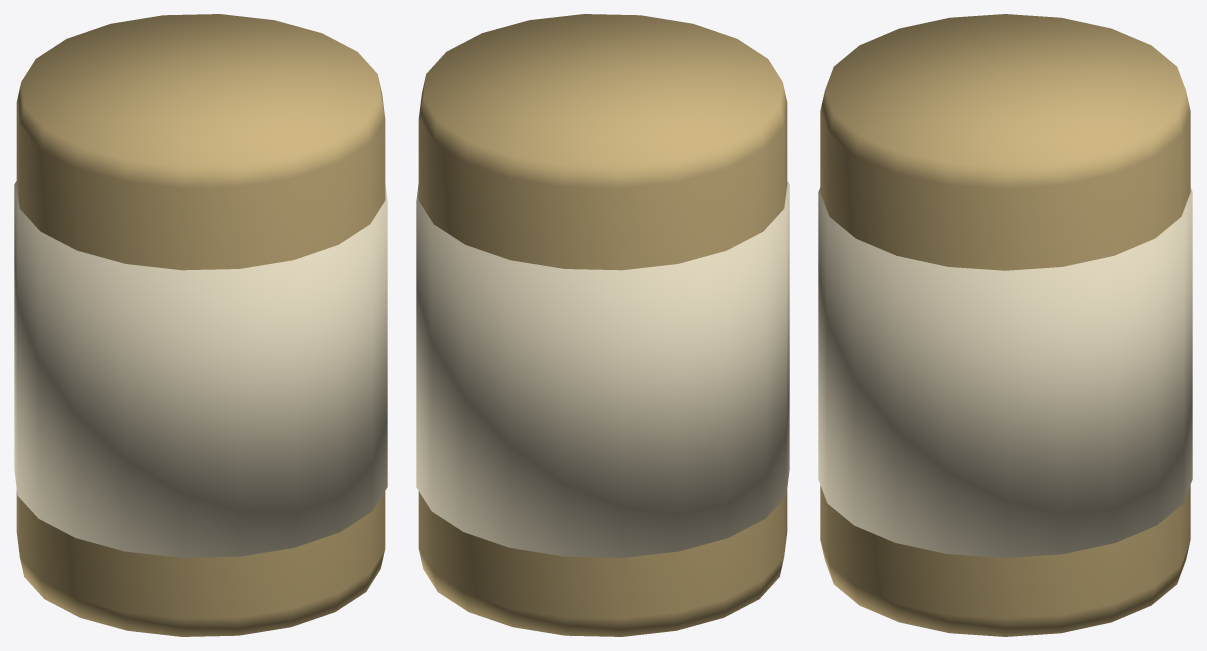
The model's file is tin.glb.
3 views of the same model, side by side, from view 1: azimuth 30°, elevation 25°; view 2: azimuth 150°, elevation 25°; view 3: azimuth 270°, elevation 25° (orthographic).
Visible parts, largest first — view 1: tin; view 2: tin; view 3: tin.
Boxes of the visible parts, left/top/right/bottom form: tin: left=14, top=14, right=387, bottom=636; tin: left=416, top=14, right=789, bottom=636; tin: left=818, top=14, right=1192, bottom=636.
Bounding box in the file's own units: 0.083 × 0.115 × 0.083.
